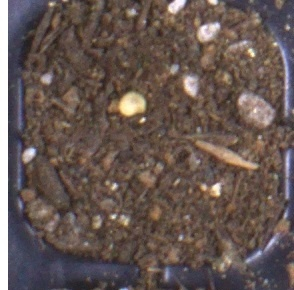chilli seed: (118, 90, 147, 116)
